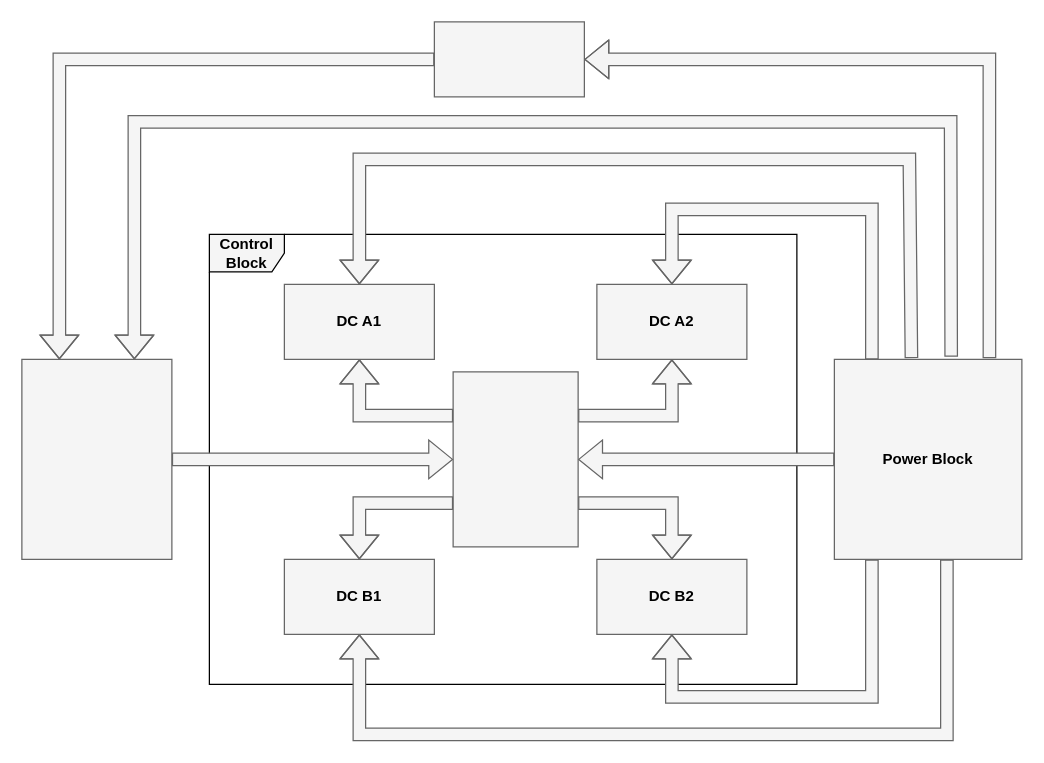
The diagram is 1044 pixels wide and 763 high, and some of its shapes have lost their labels. The shapes that lost their labels are listed below. From the top down, each one's centre as x and y in pixels, then its label:
(x=508, y=59): Module Bluetooth
(x=96, y=458): Processing Block
(x=515, y=459): Engine Control Block
